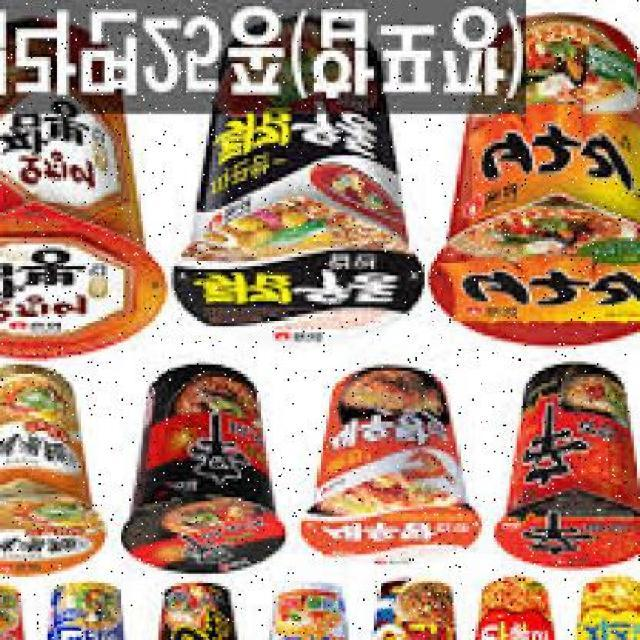Miscellaneous: (174, 26, 420, 360), (434, 19, 640, 362), (0, 13, 155, 367), (296, 366, 489, 580), (113, 368, 290, 584), (500, 380, 640, 577), (0, 368, 102, 584), (368, 574, 472, 640), (145, 580, 253, 640), (260, 574, 358, 640), (29, 583, 142, 640), (469, 577, 560, 640), (566, 583, 640, 640)
